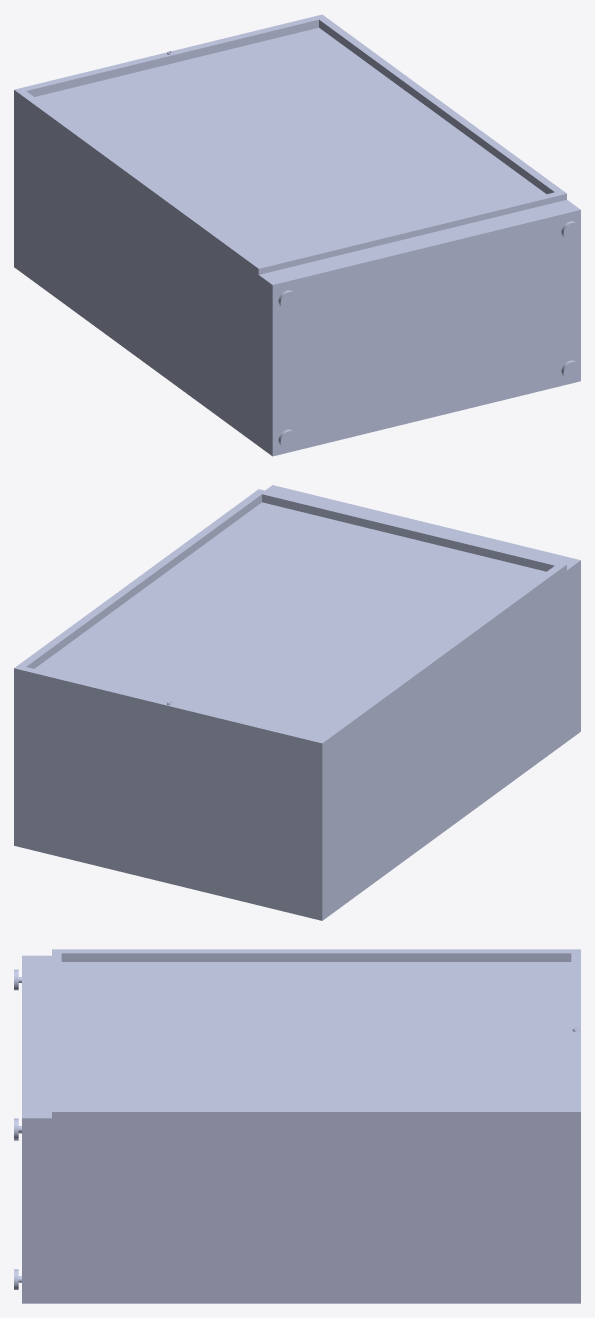
Rendered from 10 Drawer base cabinet - 40in.y.fbx.
3 views of the same model, one above another, from view 1: azimuth 30°, elevation 25°; view 2: azimuth 150°, elevation 25°; view 3: azimuth 270°, elevation 25° (orthographic). The views are drawn at different scales.
Visible parts, largest first — view 1: Body_1; view 2: Body_1; view 3: Body_1.
Boxes of the visible parts, x1,y1,x2,y2 form: Body_1: (14, 14, 580, 456); Body_1: (14, 485, 580, 920); Body_1: (14, 949, 580, 1303).
Size of the model in its own units: 1.02 by 1.5 by 0.5639.
